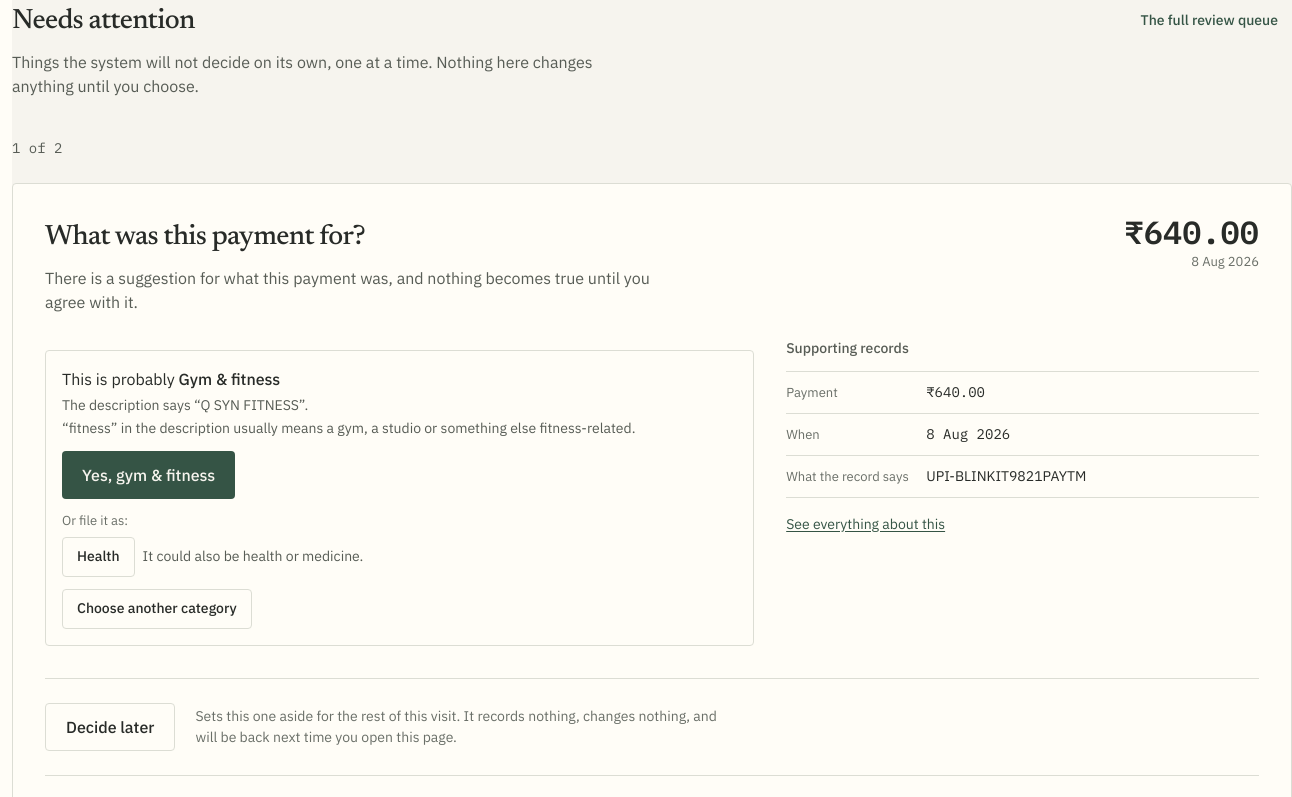
Test: one question at a time › brings the next question forward when one is set aside, and writes nothing doing it
Expected: the heading "What was this payment for?" is shown, [45,223,365,251]
Click the button "Decide later" at (110, 726), box [45,702,175,750]
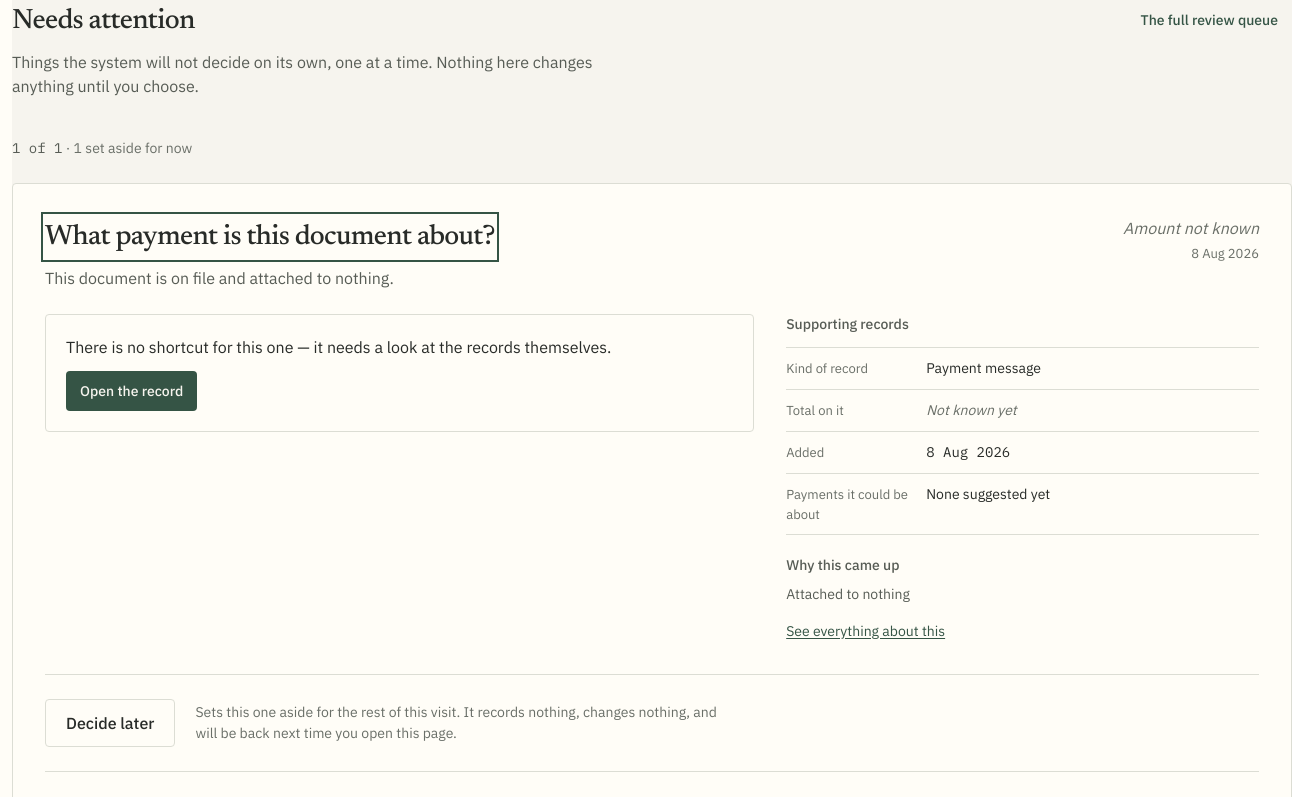
Result: the heading "What payment is this document about?" is shown at [45,216,495,258]
Result: the text "· 1 set aside for now" is shown at [62,139,192,157]
